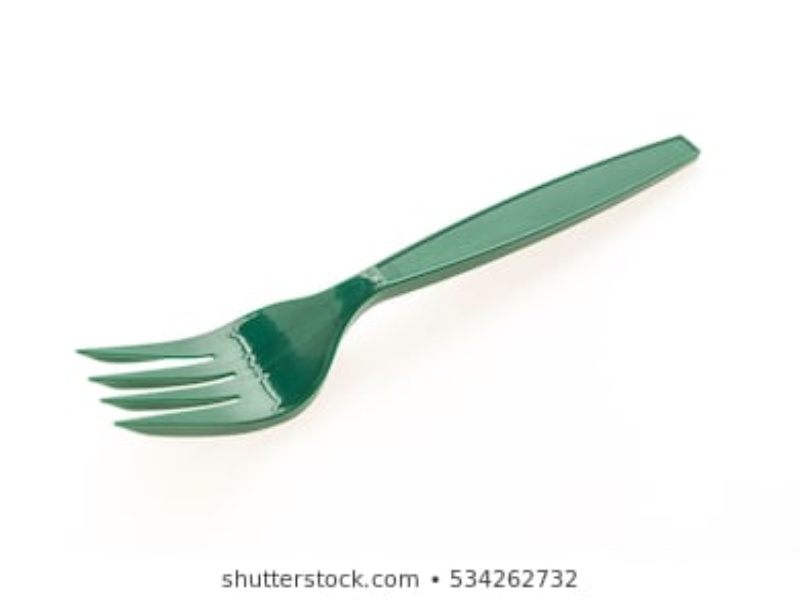plastic-silverware: (73, 133, 705, 445)
